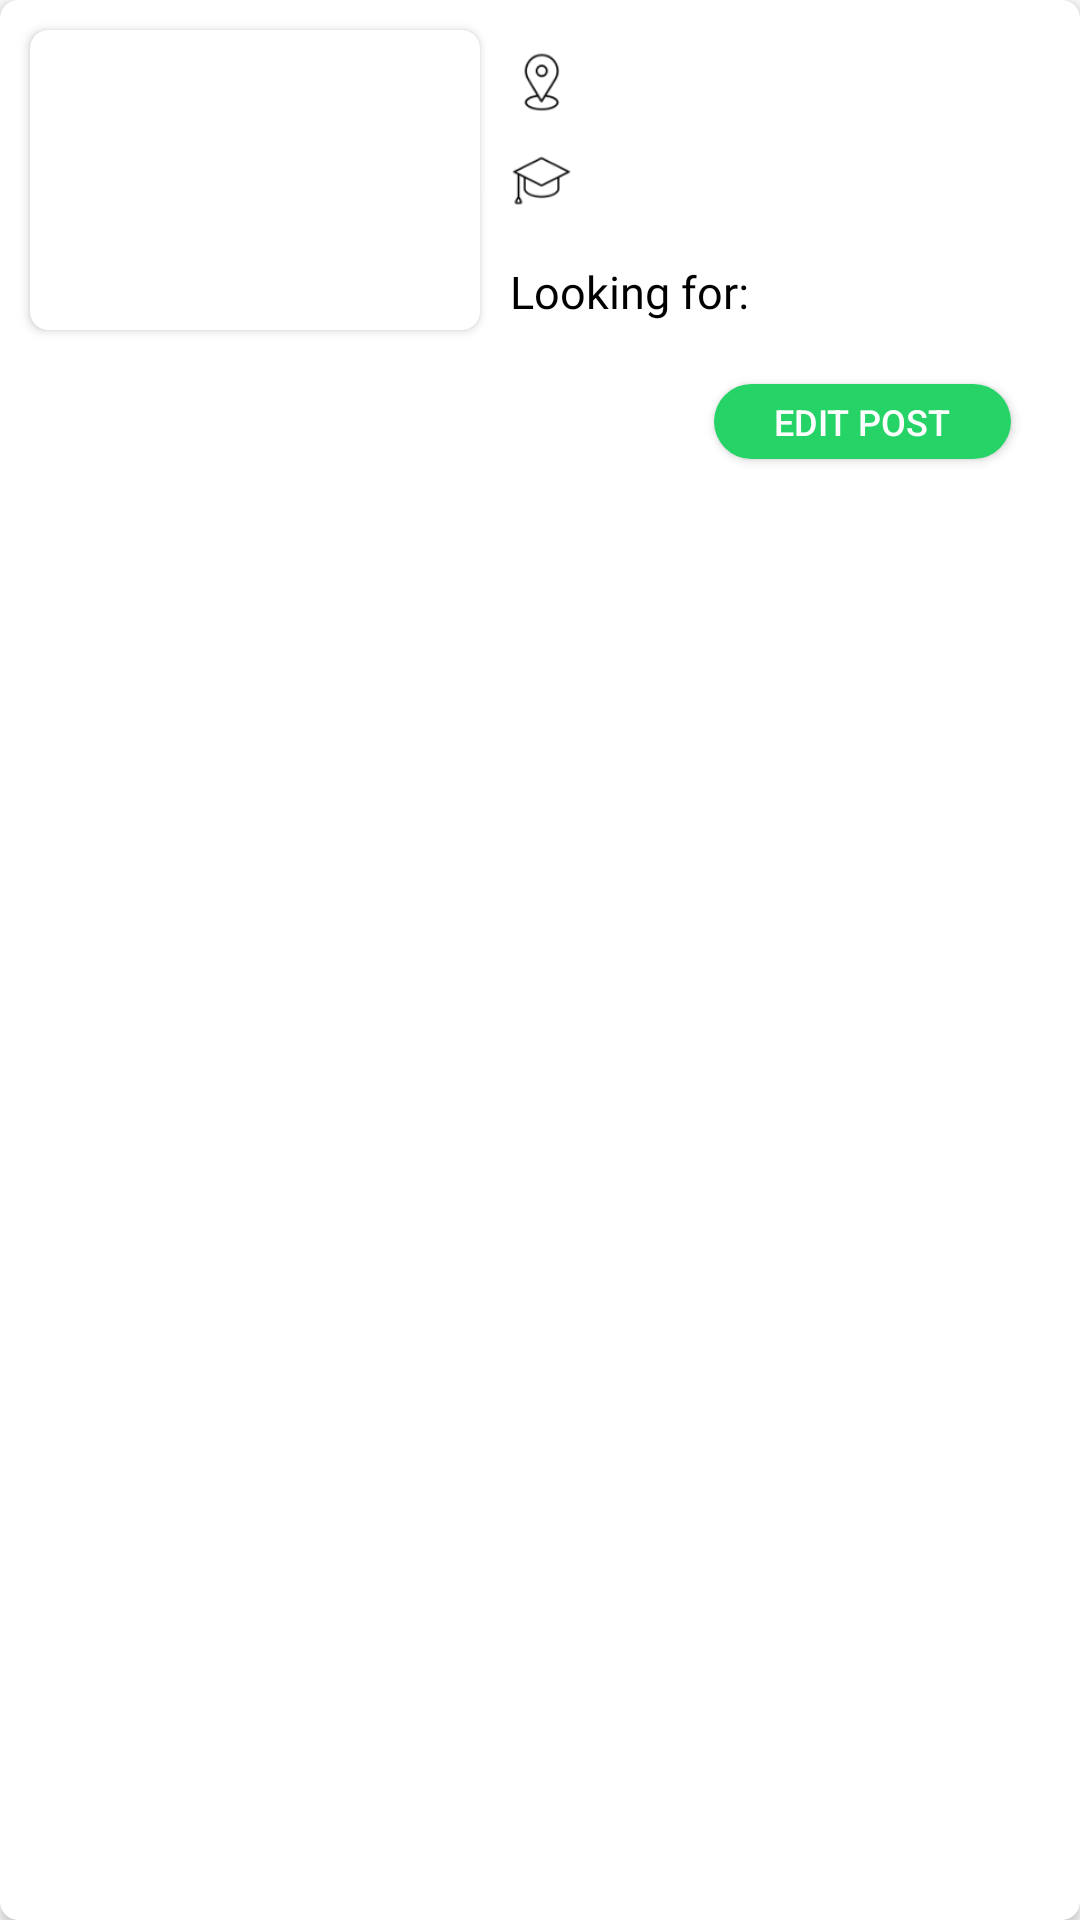

Screen size 1080px×1920px. Icon name, then its center in pixels as point (x, y):
campus: point (541, 180)
location: point (541, 82)
